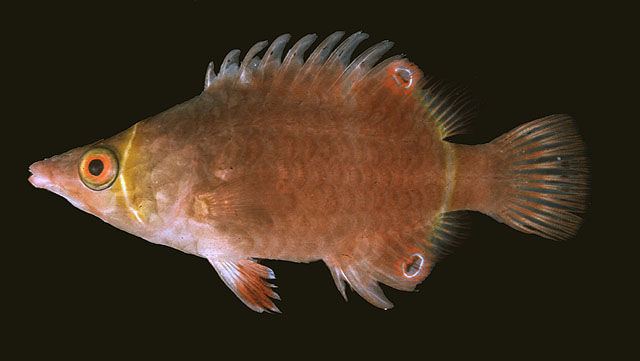fish: (27, 31, 590, 314)
